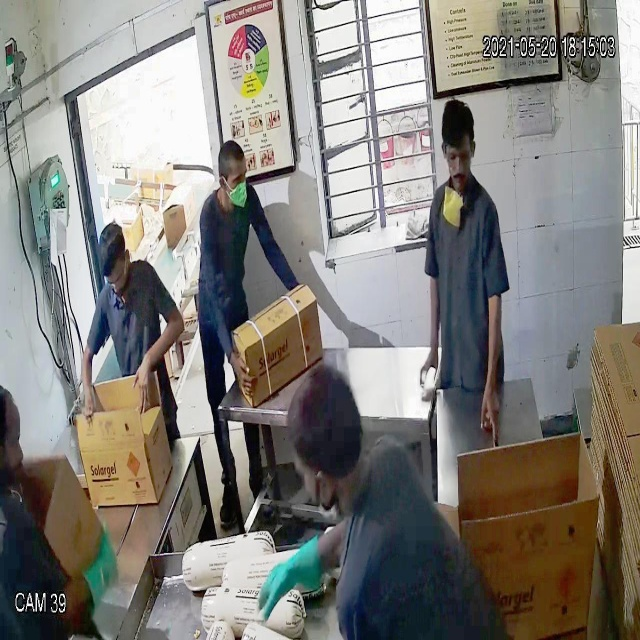Gafas: (100, 266, 134, 292)
Sin_gafas: (439, 142, 479, 169), (219, 171, 252, 193)
